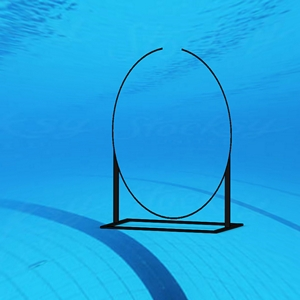circle: (98, 46, 247, 237)
